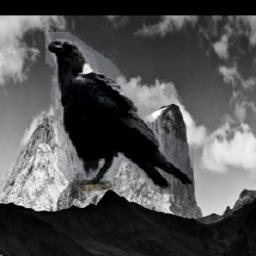Crow: (45, 33, 194, 195)
